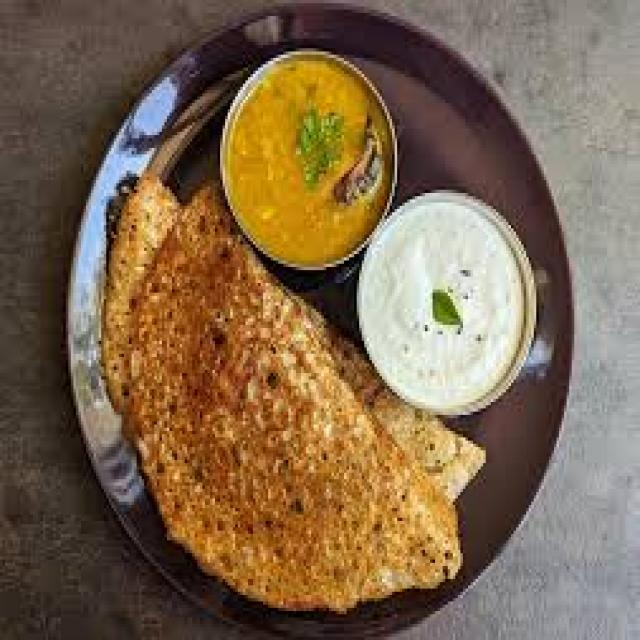DOSA: (120, 185, 460, 613)
